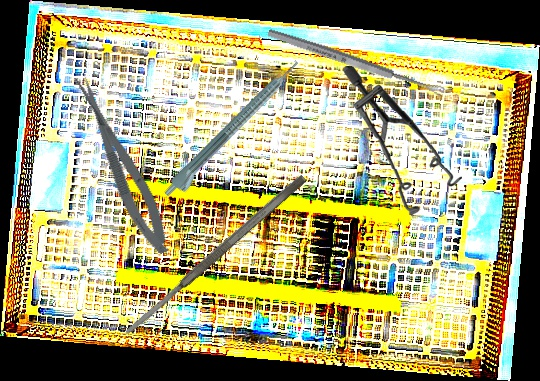Handpiece: (160, 57, 309, 205)
Micro Scissor: (68, 69, 178, 260)
Spatula Surgical: (120, 172, 309, 339)
Speculum: (341, 63, 463, 217)
Surgical Spoon: (266, 26, 446, 99)
